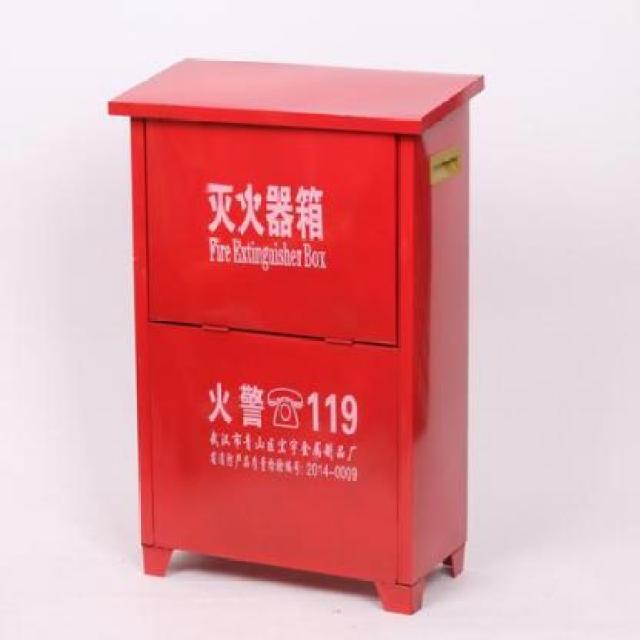firehydrant: (104, 51, 490, 621)
